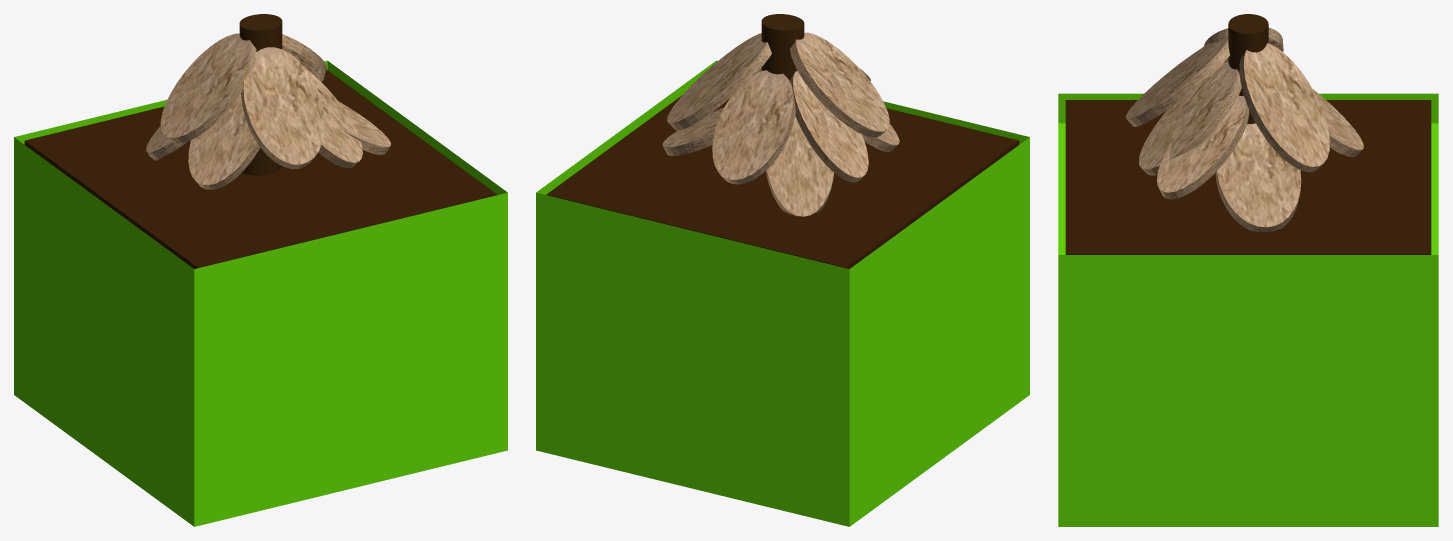
The model's file is Plant3.fbx.
3 renders of one model, left to right at view 1: azimuth 30°, elevation 25°; view 2: azimuth 150°, elevation 25°; view 3: azimuth 270°, elevation 25°, orthographic. The views are drawn at different scales.
Visible parts, largest first — view 1: Cube, Cube.001, Cylinder.008, Cylinder.006, Cylinder.007, Cylinder.010, Cylinder, Cylinder.009, Cylinder.002, Cylinder.004; view 2: Cube, Cube.001, Cylinder.001, Cylinder.006, Cylinder.002, Cylinder.005, Cylinder.004, Cylinder, Cylinder.003; view 3: Cube, Cube.001, Cylinder.002, Cylinder.003, Cylinder.010, Cylinder.009, Cylinder.008, Cylinder, Cylinder.001, Cylinder.006.
Part boxes in pixels (left/top/right/bottom): Cube: left=14, top=60, right=507, bottom=526; Cube.001: left=24, top=69, right=497, bottom=268; Cylinder.008: left=241, top=47, right=324, bottom=168; Cylinder.006: left=160, top=33, right=256, bottom=143; Cylinder.007: left=188, top=93, right=260, bottom=189; Cylinder.010: left=306, top=69, right=362, bottom=168; Cylinder: left=239, top=14, right=282, bottom=175; Cylinder.009: left=338, top=101, right=390, bottom=154; Cylinder.002: left=282, top=34, right=326, bottom=81; Cylinder.004: left=146, top=126, right=187, bottom=158; Cube: left=536, top=60, right=1029, bottom=526; Cube.001: left=546, top=95, right=1019, bottom=268; Cylinder.001: left=712, top=70, right=795, bottom=184; Cylinder.006: left=790, top=32, right=889, bottom=137; Cylinder.002: left=667, top=33, right=771, bottom=130; Cylinder.005: left=765, top=116, right=833, bottom=216; Cylinder.004: left=790, top=71, right=868, bottom=182; Cylinder: left=761, top=14, right=804, bottom=80; Cylinder.003: left=662, top=107, right=724, bottom=155; Cube: left=1058, top=93, right=1438, bottom=526; Cube.001: left=1065, top=100, right=1431, bottom=254; Cylinder.002: left=1239, top=43, right=1329, bottom=171; Cylinder.003: left=1215, top=123, right=1301, bottom=231; Cylinder.010: left=1139, top=63, right=1241, bottom=175; Cylinder.009: left=1157, top=95, right=1249, bottom=199; Cylinder.008: left=1125, top=36, right=1229, bottom=126; Cylinder: left=1228, top=14, right=1268, bottom=123; Cylinder.001: left=1313, top=89, right=1363, bottom=157; Cylinder.006: left=1203, top=27, right=1283, bottom=63.
Bounding box in the file's own units: 117 × 143 × 117.
Materials: 13 (10 with a texture image).
